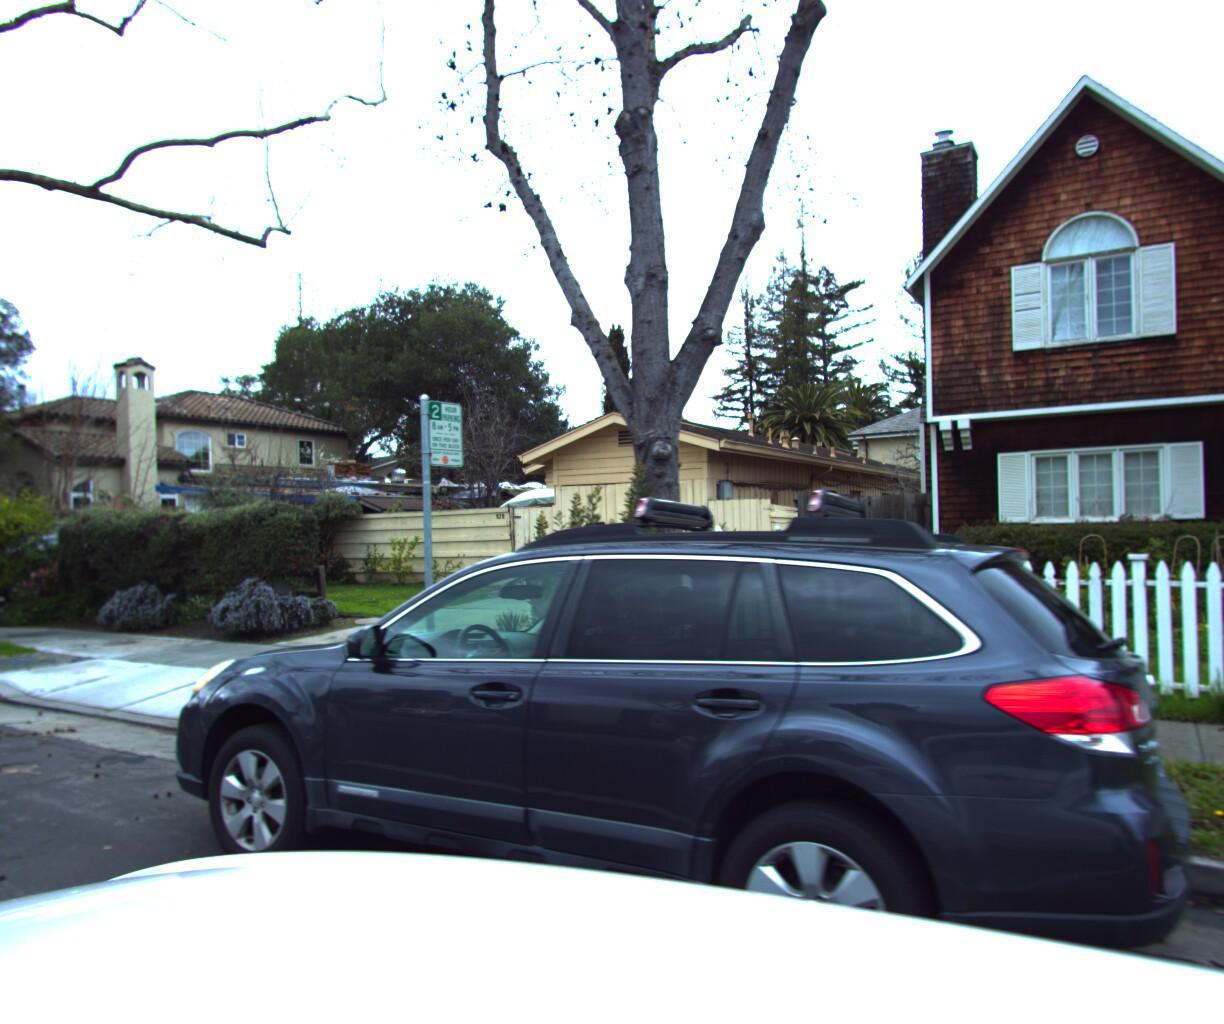car: (78, 438, 1224, 1024), (0, 536, 188, 615)
